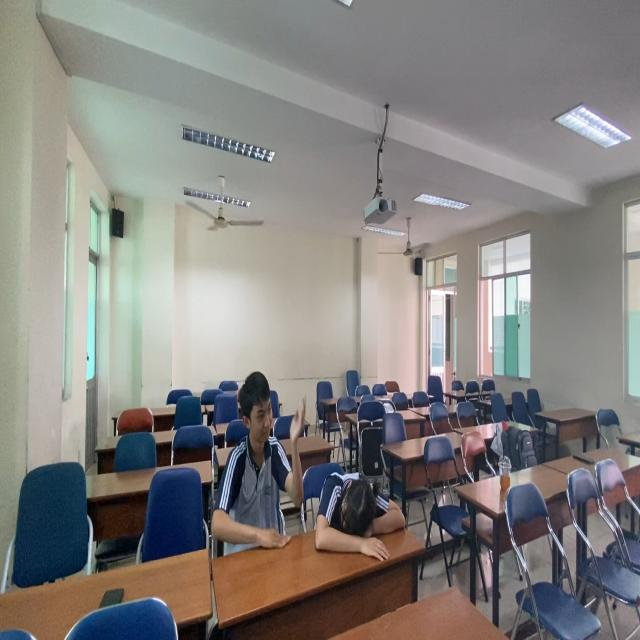raise_hand: (212, 376, 309, 585)
sleep: (317, 464, 407, 564)
